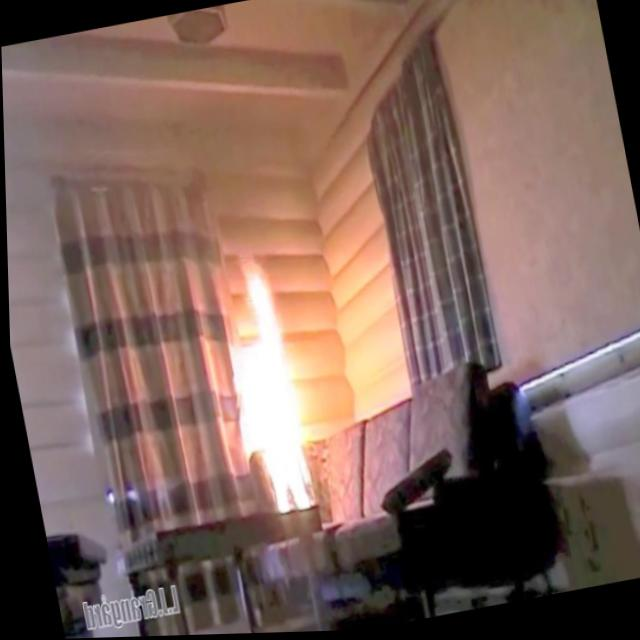fire: (204, 254, 323, 536)
